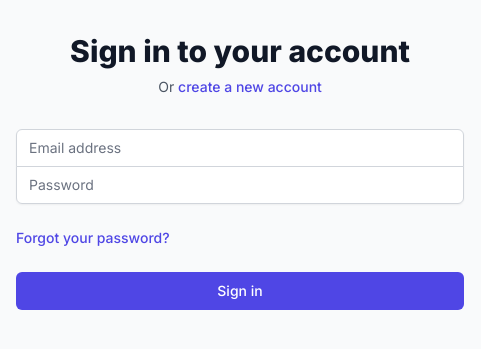
Test case: Complete Auth Flow Integration Tests › Sign In Flow › handles signin with invalid credentials
The image size is (481, 349).
Type "user@example.com" into the field labelled "Email address". click: (240,148)
box: 16,128 -> 464,166
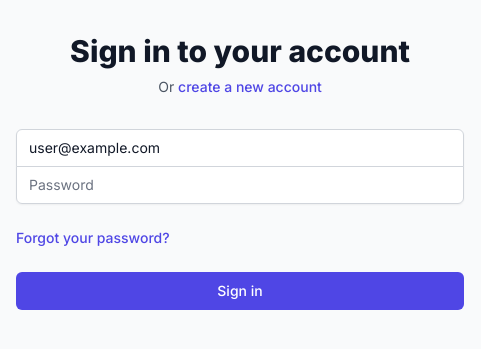
Type "wrongpassword" into the password field labelled "Password". click: (240,184)
box: 16,166 -> 464,204
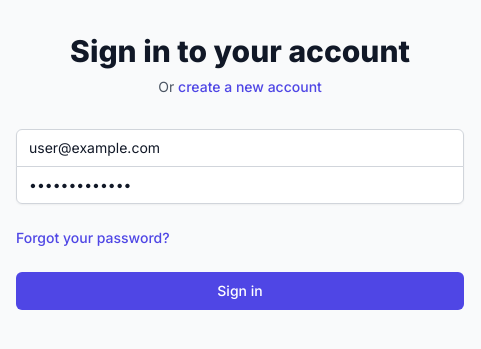
Click the button "Sign in". click: (240,290)
box: 16,272 -> 464,310
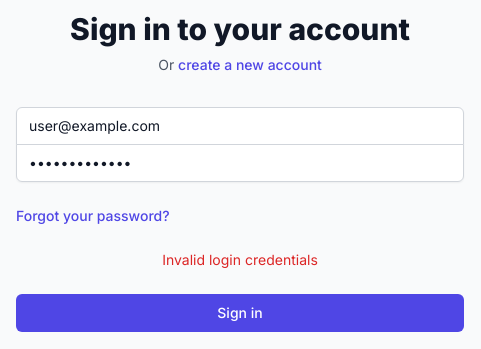
Now the text "Invalid login credentials" is shown, box 162,250 -> 318,268
